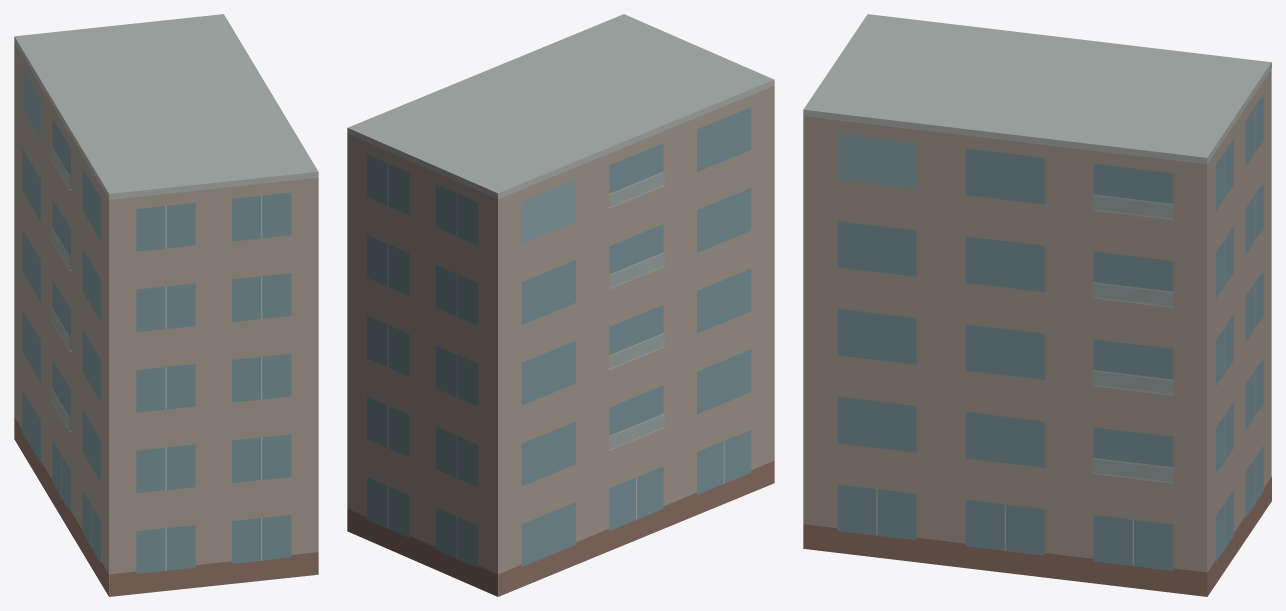
File: survey-upis-32873450.glb
3 views of the same model, side by side, from view 1: azimuth 30°, elevation 25°; view 2: azimuth 150°, elevation 25°; view 3: azimuth 270°, elevation 25° (orthographic). The views are drawn at different scales.
Visible parts, largest first — view 1: survey-upis-32873450.tmp; view 2: survey-upis-32873450.tmp; view 3: survey-upis-32873450.tmp.
Boxes of the visible parts, <box> form: survey-upis-32873450.tmp: <box>14,14,318,596</box>; survey-upis-32873450.tmp: <box>347,14,774,596</box>; survey-upis-32873450.tmp: <box>803,14,1271,596</box>.
Bounding box in the file's own units: 11.68 × 16.6 × 16.07.
